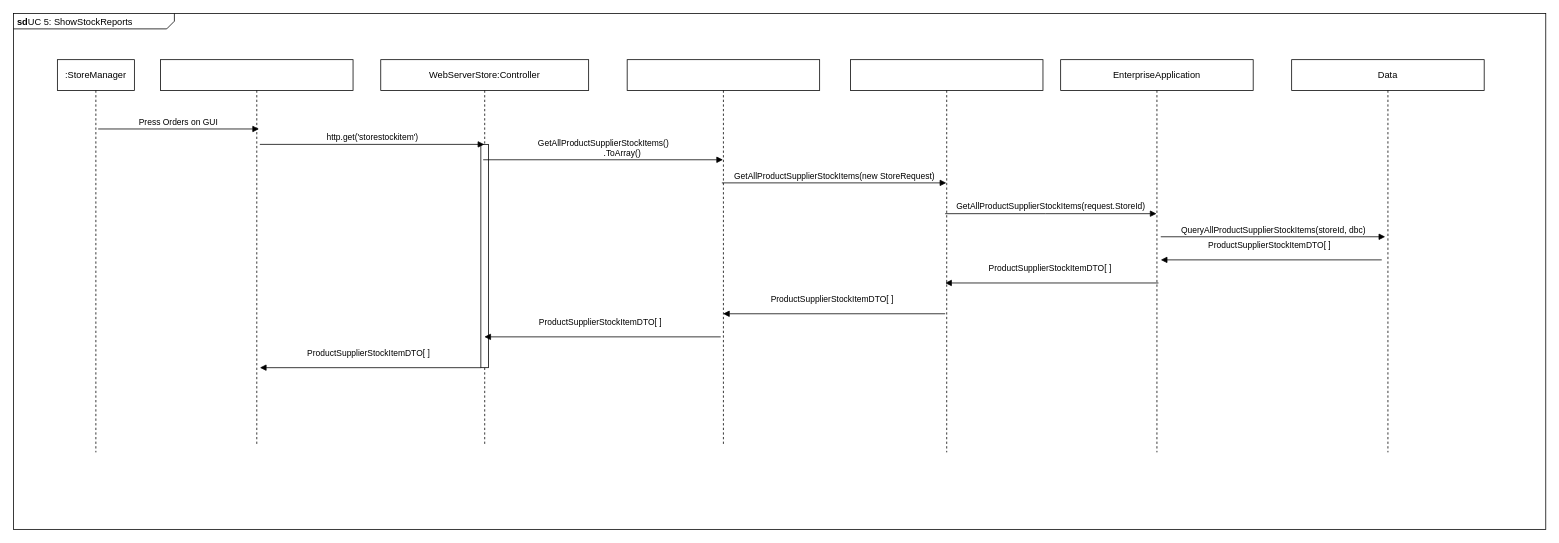
This 1559x543 diagram has some shape labels left out. Each missing label, with the box of its shape:
Enterprise Web Server: (850, 59, 1043, 452)
GUI:StoreService: (160, 59, 353, 445)
Store Application: (626, 59, 820, 445)
